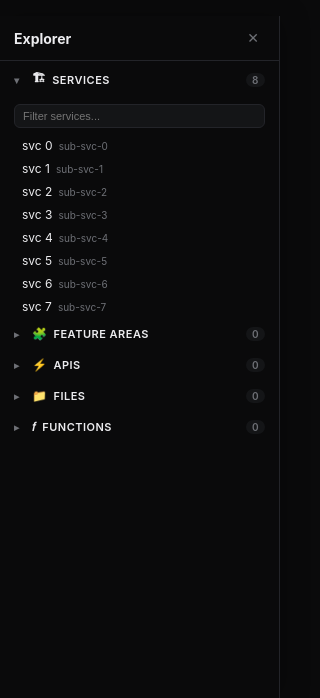
ExplorerSidebar › shows "No matches" when filter eliminates all items
In the field with placeholder "Filter services...": point(140, 116) 14,104 -> 265,128, type "nonexistent-query"
Wait 150 ms
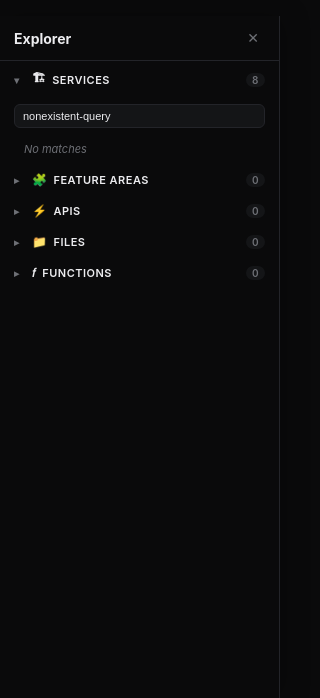
Expected: the text "No matches" is shown, 24,142 -> 87,156
